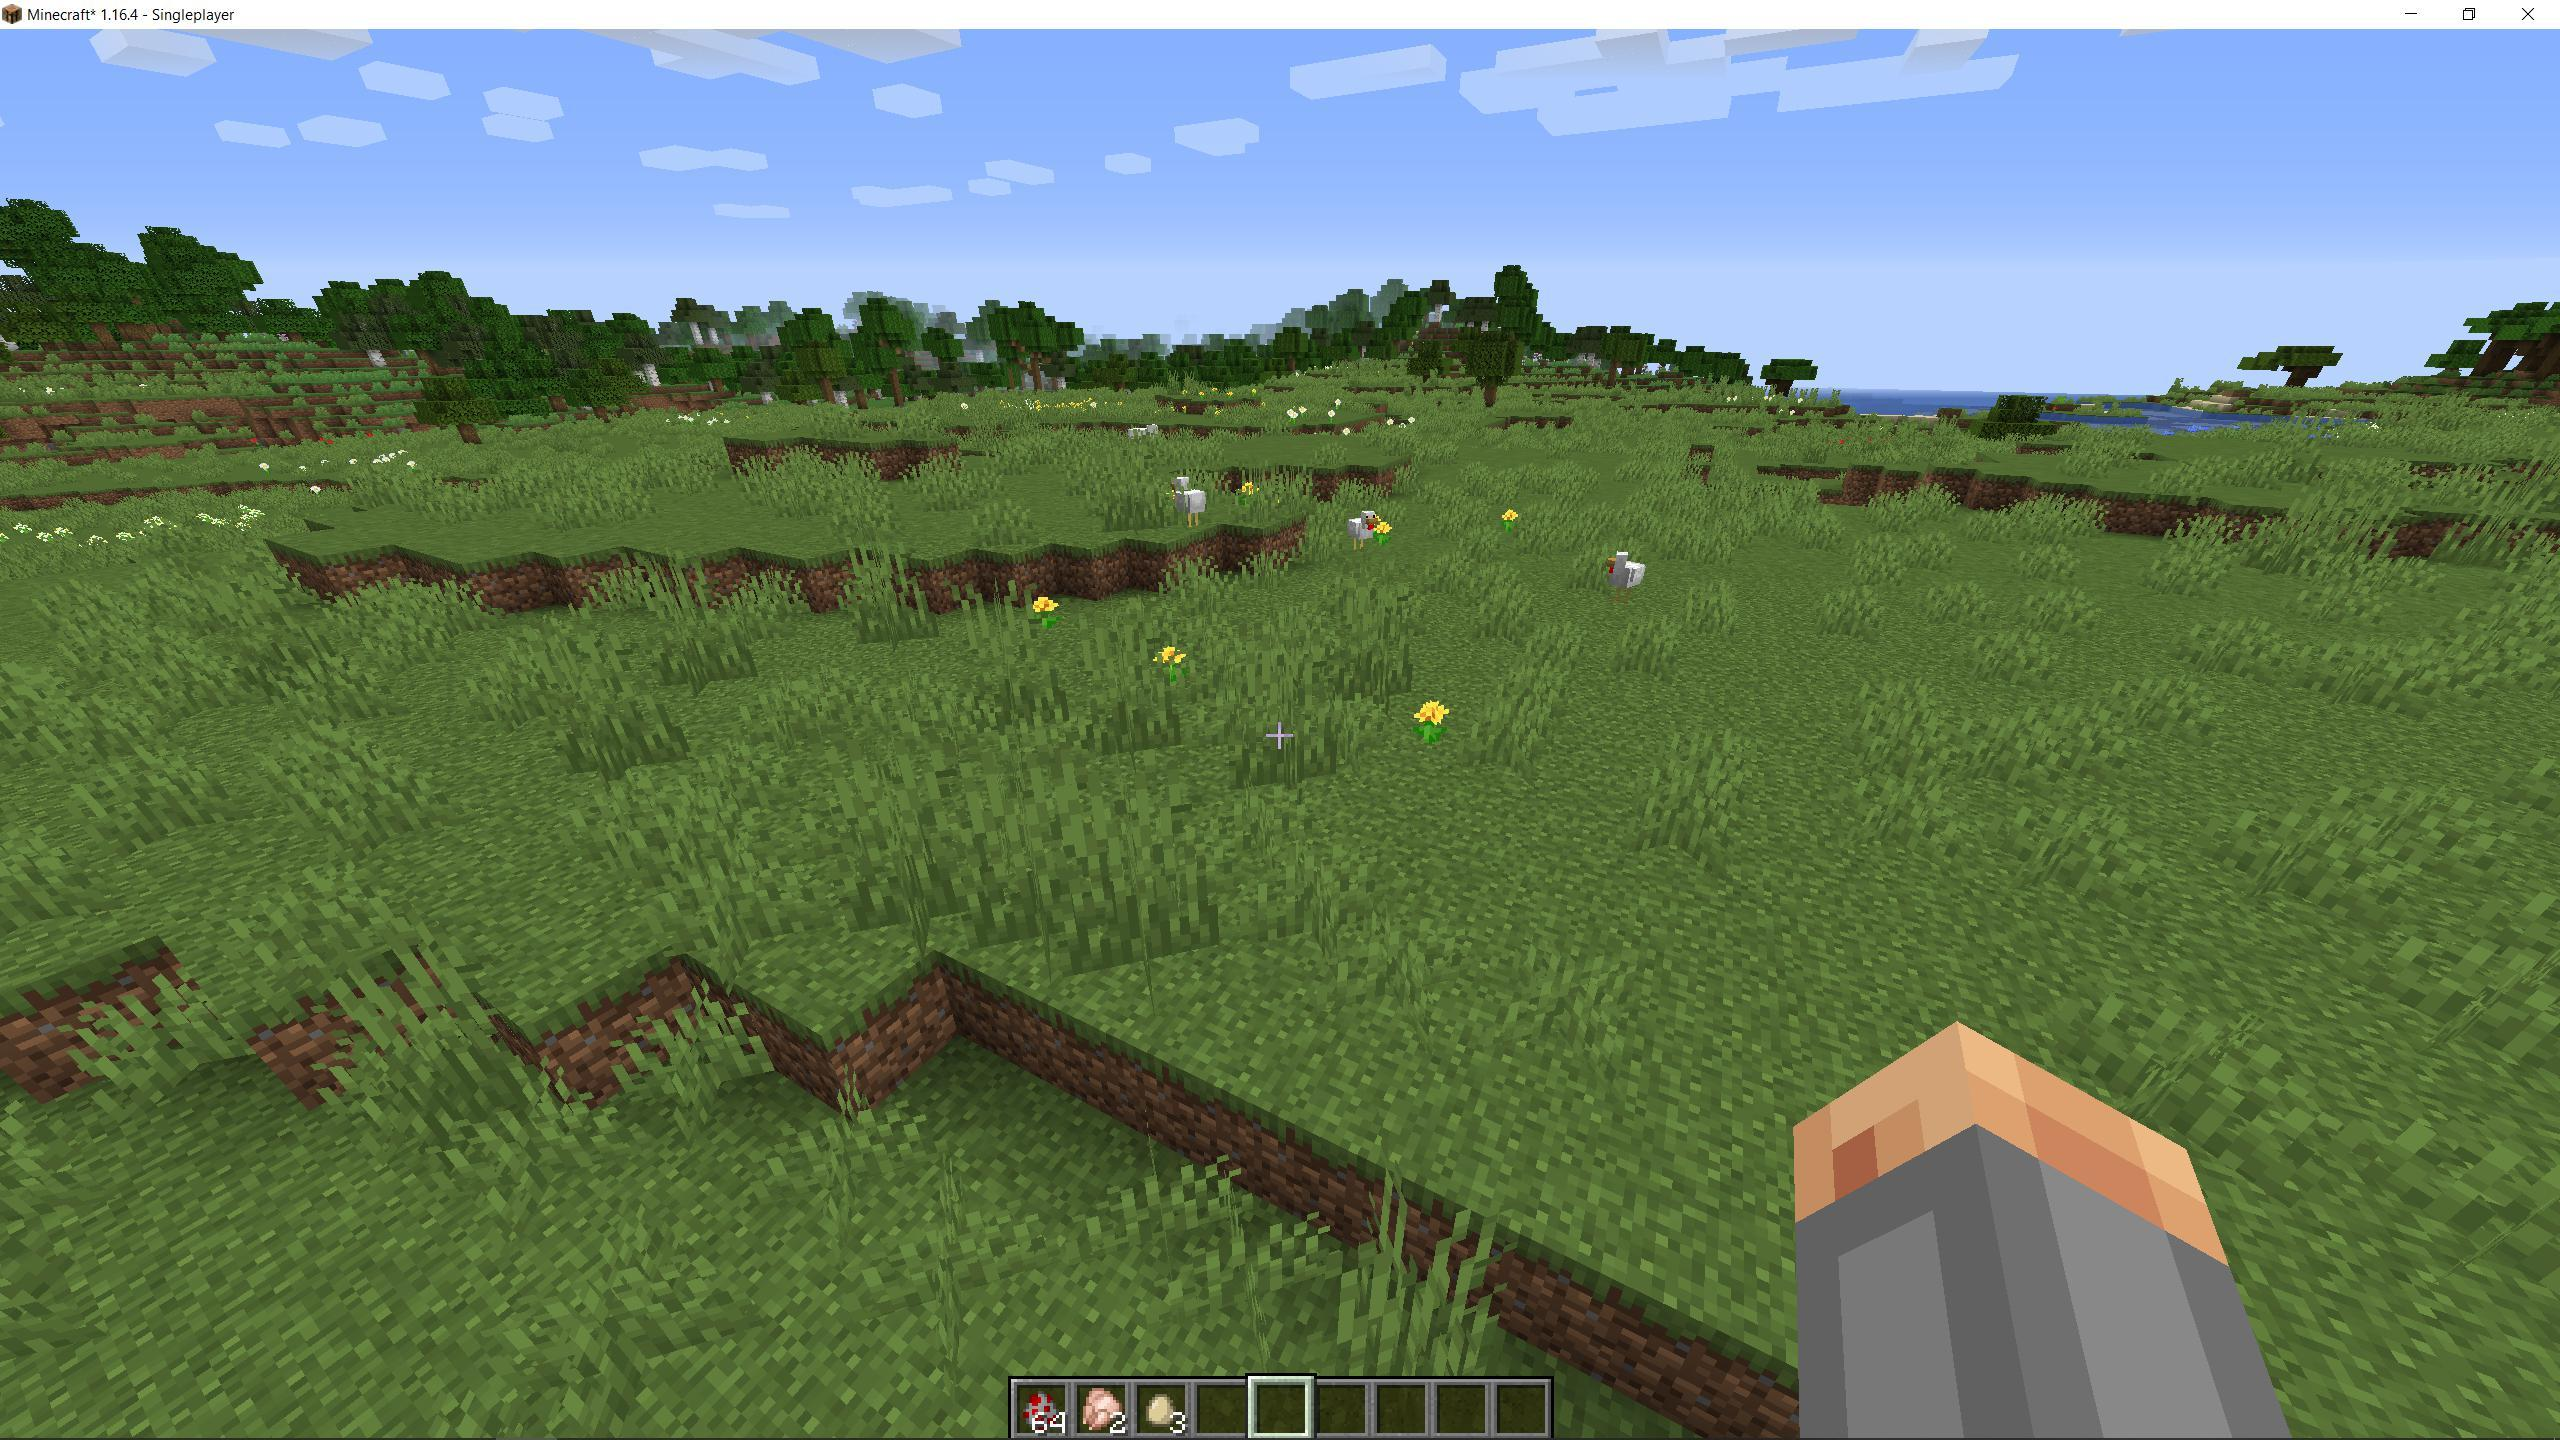chicken: (1593, 545, 1655, 612), (1166, 466, 1210, 535), (1340, 506, 1393, 557)
